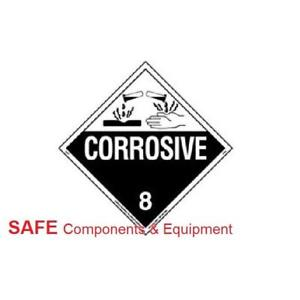Corrosive: (59, 62, 241, 224)
